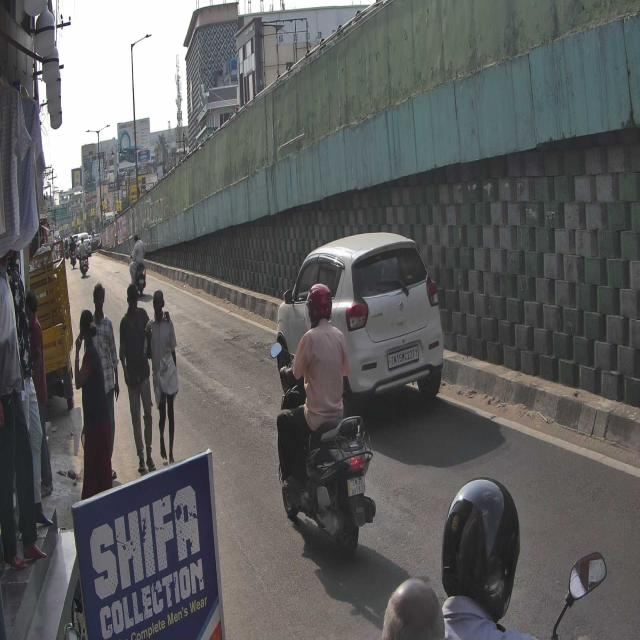single_rider: (269, 280, 378, 569)
